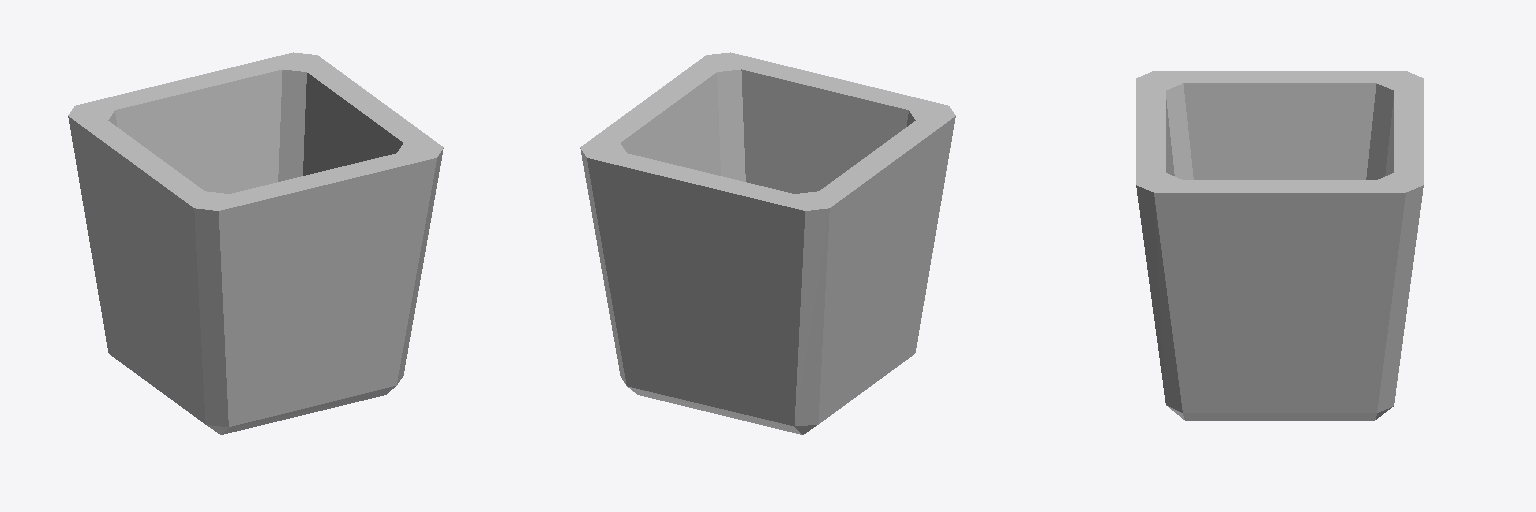
File: basket.obj
The picture shows the model from 3 angles: view 1: azimuth 30°, elevation 25°; view 2: azimuth 150°, elevation 25°; view 3: azimuth 270°, elevation 25°; orthographic projection.
Visible parts, largest first — view 1: mobile_balloon:pCylinder5.002; view 2: mobile_balloon:pCylinder5.002; view 3: mobile_balloon:pCylinder5.002.
Part boxes in pixels (bbox=[...]): mobile_balloon:pCylinder5.002: bbox=[68, 52, 443, 434]; mobile_balloon:pCylinder5.002: bbox=[580, 52, 955, 434]; mobile_balloon:pCylinder5.002: bbox=[1136, 71, 1423, 420].
Size of the model in its own units: 2.98 by 2.83 by 2.97.